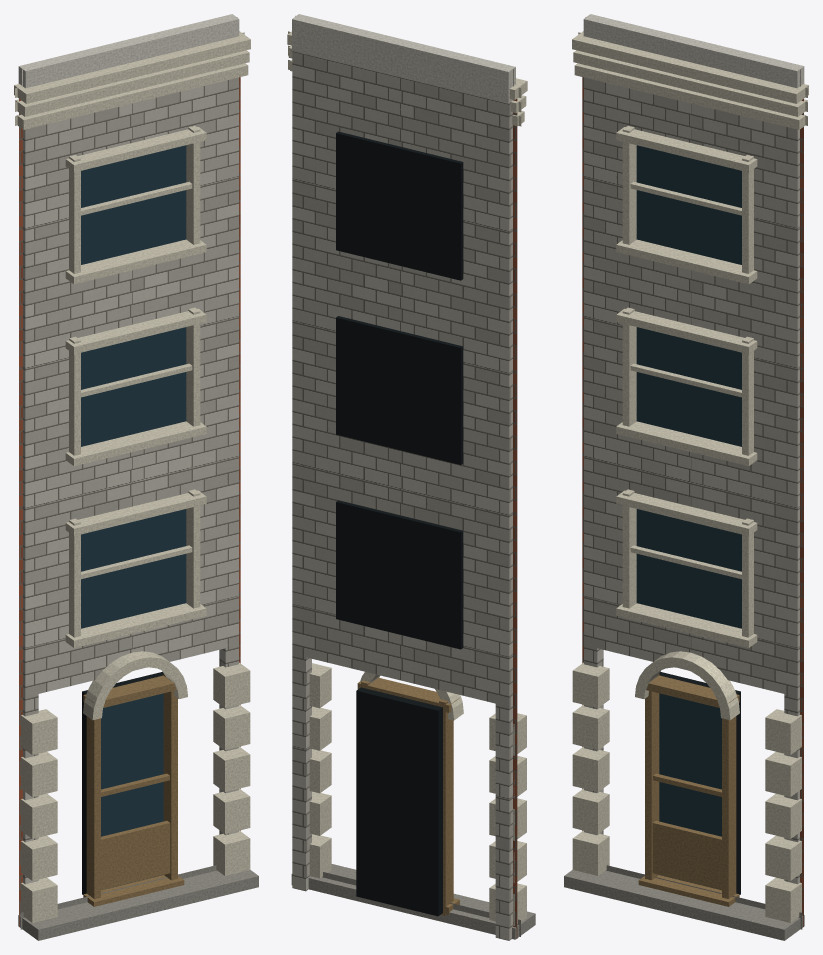
The model's file is OFFC18_lod2.glb.
3 views of the same model, side by side, from view 1: azimuth 30°, elevation 25°; view 2: azimuth 150°, elevation 25°; view 3: azimuth 330°, elevation 25° (orthographic).
Visible parts, largest first — view 1: OFFC18_FRONT_LOD2; view 2: OFFC18_FRONT_LOD2; view 3: OFFC18_FRONT_LOD2.
Boxes of the visible parts, left/top/right/bottom form: OFFC18_FRONT_LOD2: left=14, top=14, right=258, bottom=940; OFFC18_FRONT_LOD2: left=287, top=14, right=535, bottom=940; OFFC18_FRONT_LOD2: left=564, top=14, right=808, bottom=940.
Size of the model in its own units: 3.44 by 12.26 by 0.68.
Materials: 9 (7 with a texture image).
